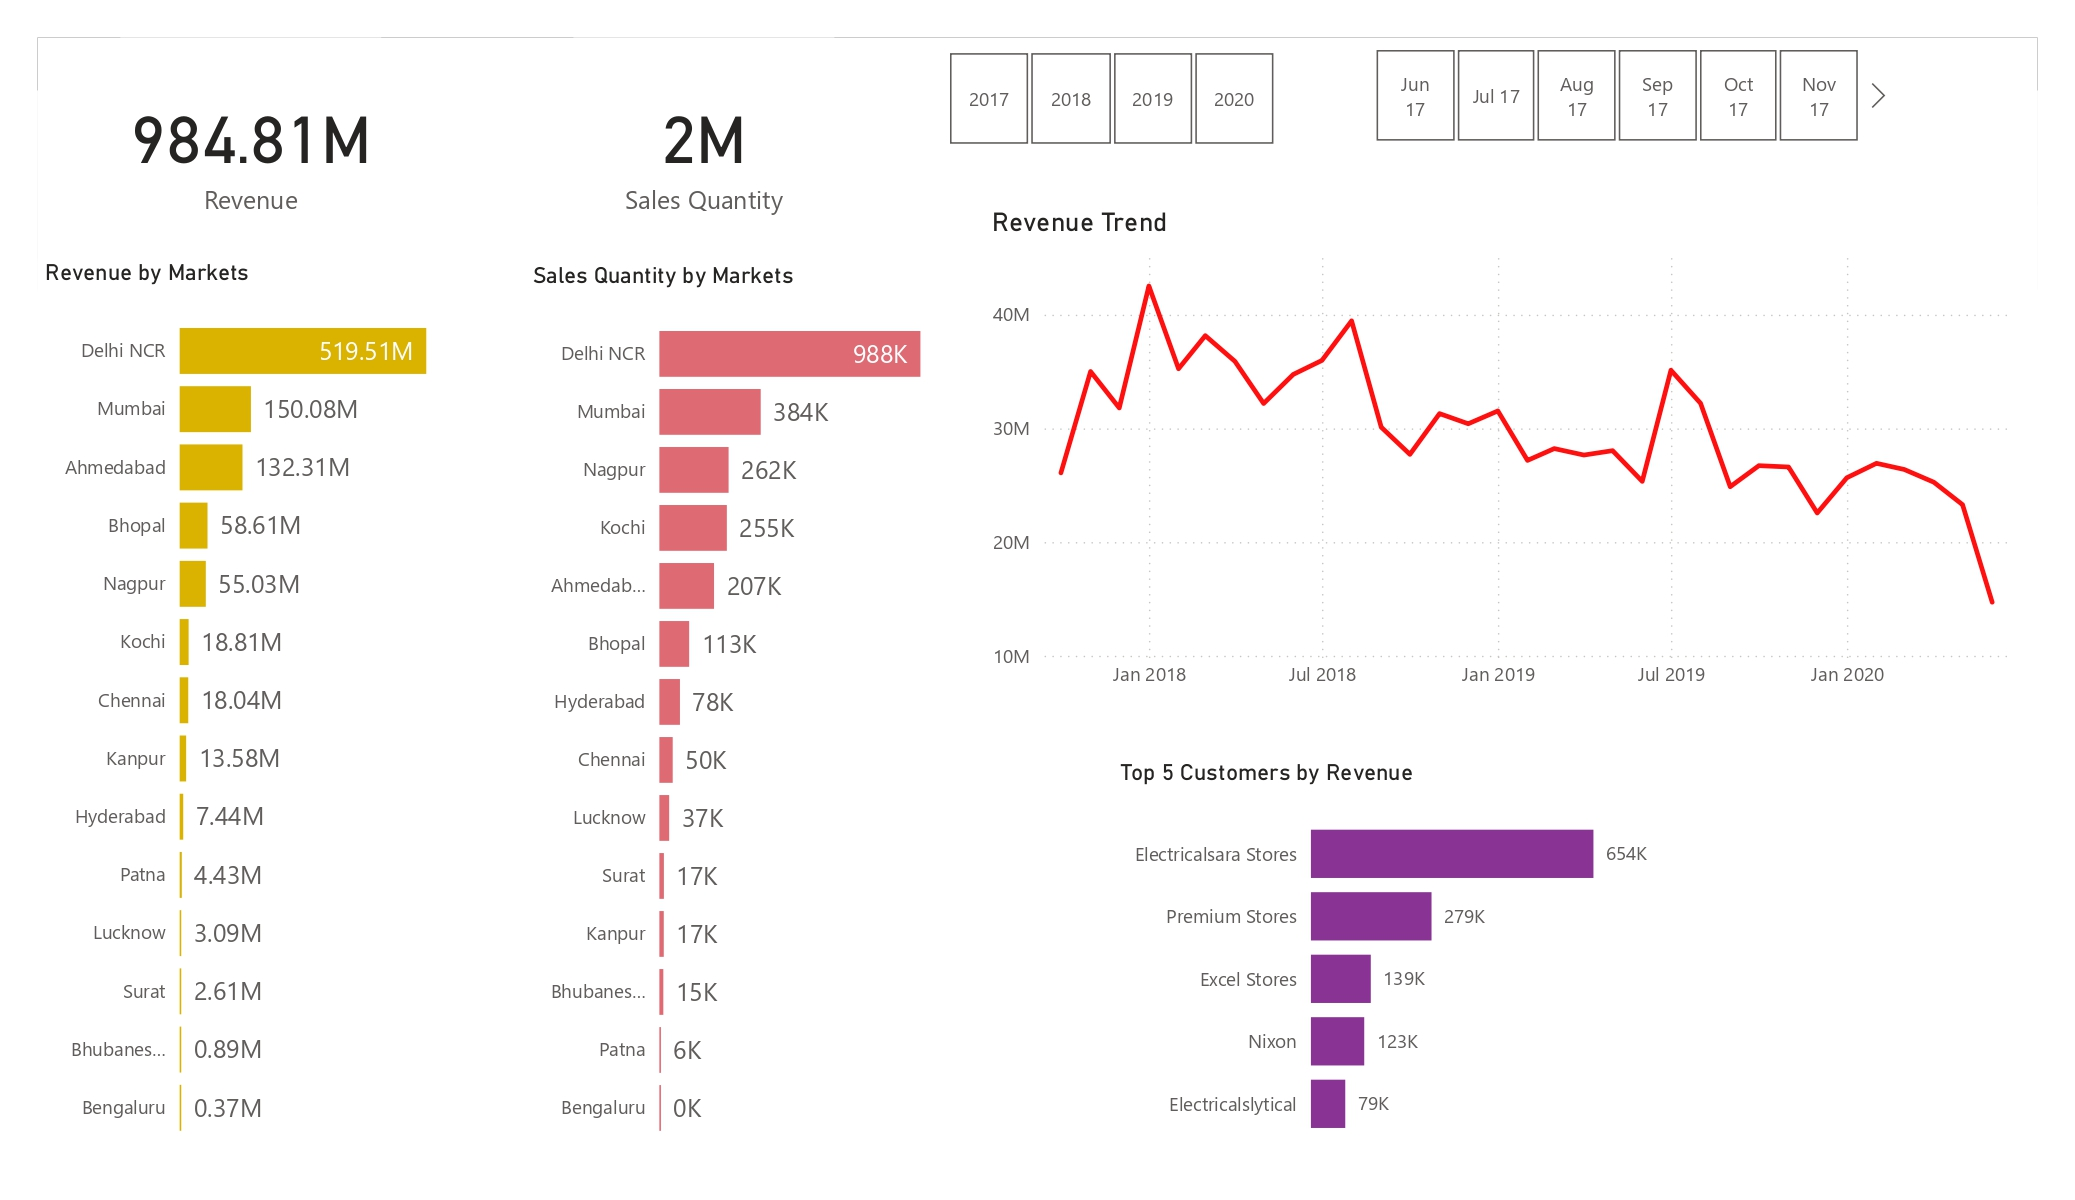

The page's visual inventory and layout, read from the dashboard file:
{"tool":"powerbi","page":{"name":"Page 1","canvas":[1280,720],"ordinal":0},"visuals":[{"type":"card","fields":{"Values":["BaseMeasures.Revenue"]},"box":[52.5,0,167.5,142.5],"z":0},{"type":"card","fields":{"Values":["BaseMeasures.Sales Quantity"]},"box":[342.5,0,167.5,142.5],"z":1000},{"type":"barChart","title":"Revenue by Markets","fields":{"Y":["BaseMeasures.Revenue"],"Category":["sales markets.markets_name"]},"box":[0,142,312,578],"z":2000},{"type":"barChart","title":"Sales Quantity by  Markets","fields":{"Y":["BaseMeasures.Sales Quantity"],"Category":["sales markets.markets_name"]},"box":[312,144,294,576],"z":3000},{"type":"slicer","fields":{"Values":["sales date.year"]},"box":[557.5,2.5,257.5,72.5],"z":4000},{"type":"slicer","fields":{"Values":["sales date.cy_date"]},"box":[831.2,1.2,357.5,71.2],"z":5000},{"type":"barChart","title":"Top 5 Customers by Revenue","fields":{"Y":["BaseMeasures.Sales Quantity"],"Category":["sales customers.custmer_name"]},"box":[688,462,348,258],"z":6000},{"type":"lineChart","title":"Revenue Trend","fields":{"Y":["BaseMeasures.Revenue"],"Category":["sales date.cy_date.Variation.Date Hierarchy.Year","sales date.cy_date.Variation.Date Hierarchy.Quarter","sales date.cy_date.Variation.Date Hierarchy.Month","sales date.cy_date.Variation.Date Hierarchy.Day"]},"box":[606,108,674,318],"z":7000}]}

Visuals, with their boxes on the page's 1280x720 design canvas (x1, y1, x2, y2). These are canvas units, not pixel positions in the 2075x1200 screenshot, which may show the page scaled, cropped or inside an application window:
card - BaseMeasures.Revenue: [x1=52, y1=0, x2=220, y2=142]
card - BaseMeasures.Sales Quantity: [x1=342, y1=0, x2=510, y2=142]
"Revenue by Markets" barChart: [x1=0, y1=142, x2=312, y2=720]
"Sales Quantity by  Markets" barChart: [x1=312, y1=144, x2=606, y2=720]
slicer - sales date.year: [x1=558, y1=2, x2=815, y2=75]
slicer - sales date.cy_date: [x1=831, y1=1, x2=1189, y2=72]
"Top 5 Customers by Revenue" barChart: [x1=688, y1=462, x2=1036, y2=720]
"Revenue Trend" lineChart: [x1=606, y1=108, x2=1280, y2=426]
